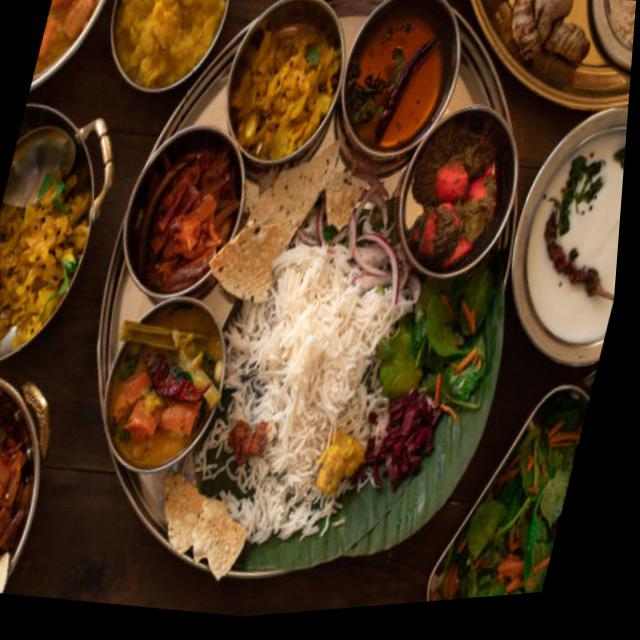CURD: (529, 136, 626, 344)
IDIYAPPAM: (227, 246, 399, 535)
PAPADAM: (210, 143, 362, 287), (166, 473, 247, 580)
PICKLE: (139, 148, 237, 286)
SAMBAR: (110, 308, 219, 460)
VEGGIES: (0, 195, 71, 335), (117, 0, 221, 79), (375, 389, 429, 481), (32, 0, 92, 80), (0, 422, 24, 553)
